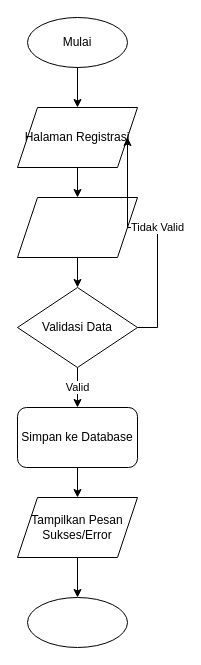
This 201x665 diagram has some shape labels left out. The centre of each missing label's shape, as x and y in pixels:
Input Data (Nama, Email, dll): point (77, 227)
Selesai: point (77, 622)
